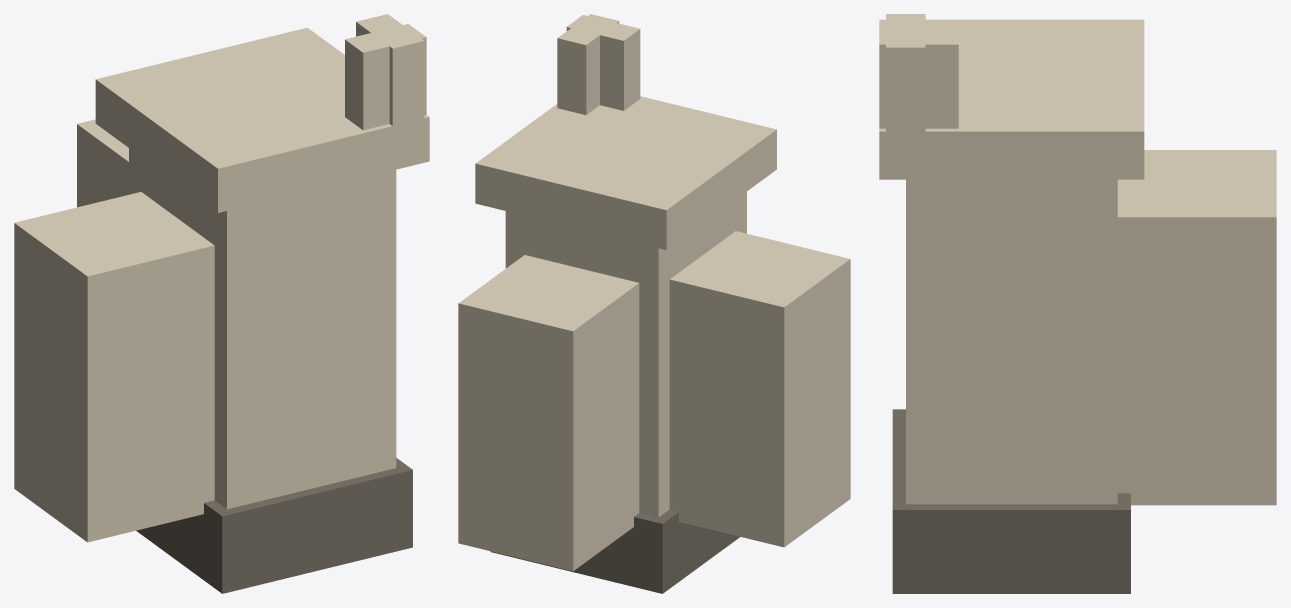
The model's file is wall_corner.glb.
3 renders of one model, left to right at view 1: azimuth 30°, elevation 25°; view 2: azimuth 150°, elevation 25°; view 3: azimuth 270°, elevation 25°, orthographic. The views are drawn at different scales.
Visible parts, largest first — view 1: wall_corner; view 2: wall_corner; view 3: wall_corner.
Boxes of the visible parts, bbox=[...] form: wall_corner: bbox=[14, 14, 429, 593]; wall_corner: bbox=[458, 14, 850, 593]; wall_corner: bbox=[879, 14, 1276, 593].
Bounding box in the file's own units: 1.5 × 2.3 × 1.5.
